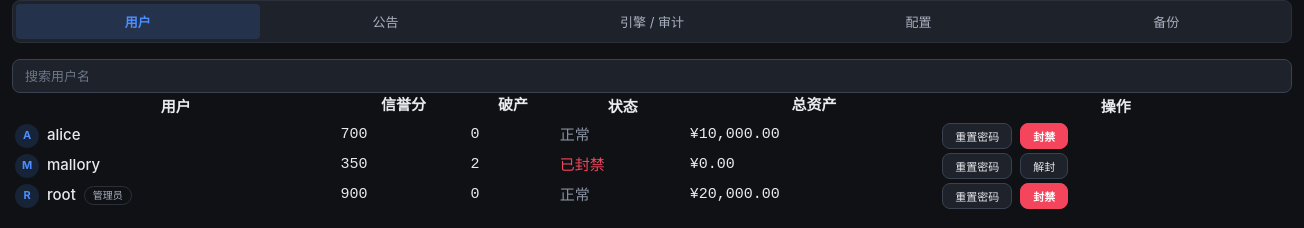
用户表 › 本地搜索过滤用户（不发新请求）
The width and height of the screenshot is (1304, 228).
Check: the table with test id "admin-users" is shown, box [12,93,1292,212]
In the search field with test id "admin-user-search": (652,76) [12,59,1292,93], type "mal"
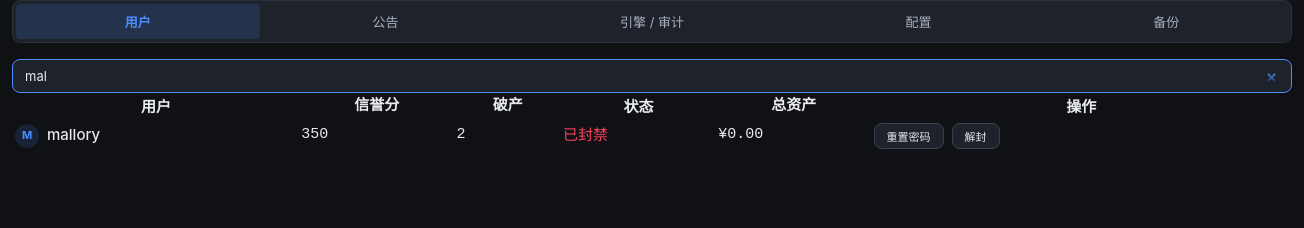
Check: the text "mallory" is shown, box [47,124,100,147]
Check: the text "alice" is gone
